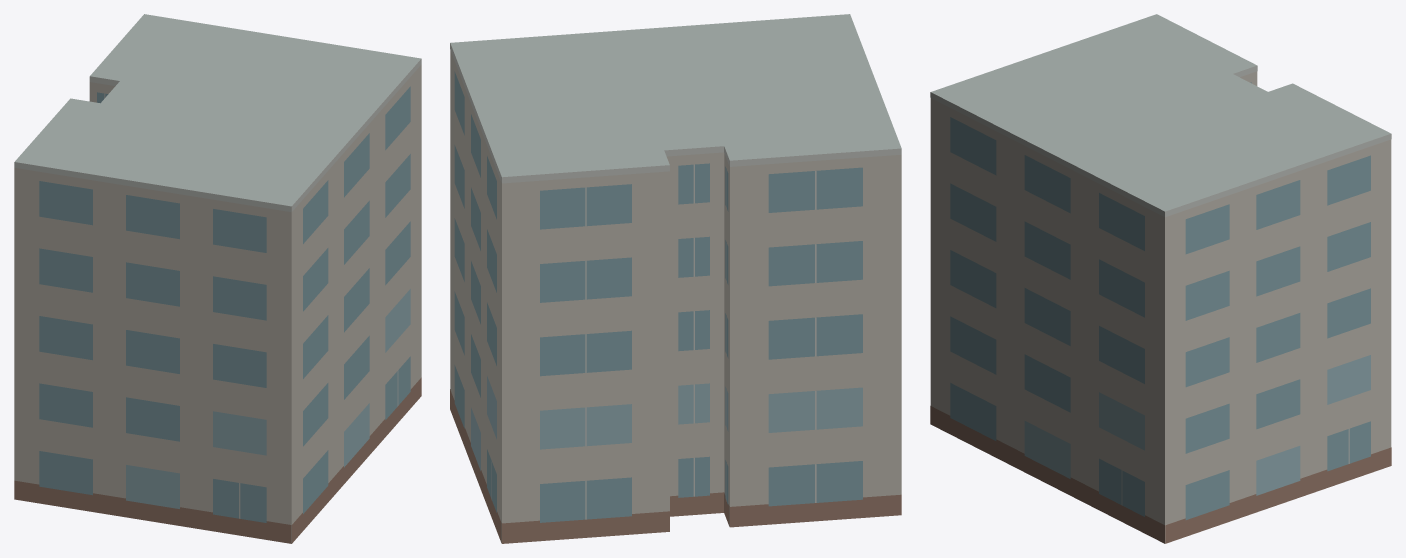
Rendered from survey-upis-32838196.glb.
3 views of the same model, side by side, from view 1: azimuth 30°, elevation 25°; view 2: azimuth 150°, elevation 25°; view 3: azimuth 270°, elevation 25° (orthographic). The views are drawn at different scales.
Parts seen in each view (by area): view 1: survey-upis-32838196.tmp; view 2: survey-upis-32838196.tmp; view 3: survey-upis-32838196.tmp.
Boxes of the visible parts, left/top/right/bottom form: survey-upis-32838196.tmp: left=14, top=14, right=421, bottom=543; survey-upis-32838196.tmp: left=450, top=14, right=901, bottom=543; survey-upis-32838196.tmp: left=930, top=14, right=1391, bottom=543.
Size of the model in its own units: 18.19 by 14.25 by 17.92.
